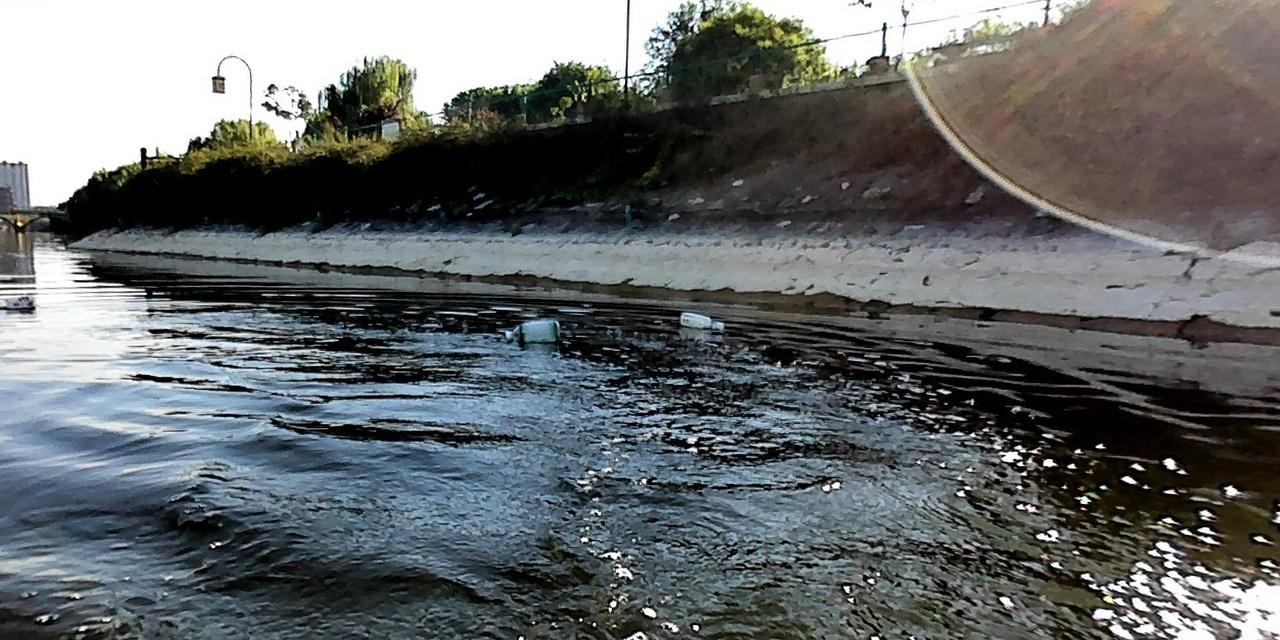bottle: (501, 315, 562, 345), (675, 308, 725, 332), (0, 292, 36, 312)
